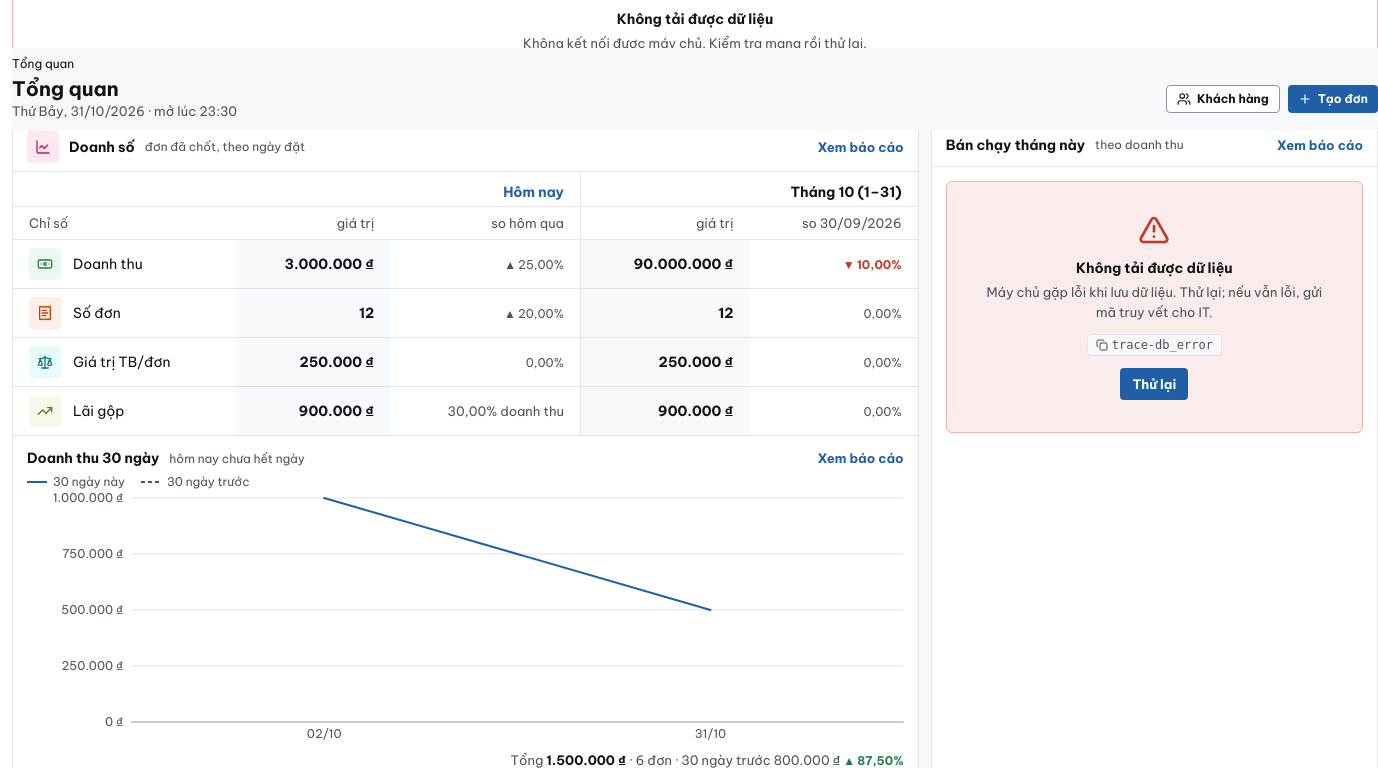
Test: DashboardScreen — số thật theo quyền (RPT-08) › error: ô lỗi hiện traceId + thử lại gọi lại API, các ô khác vẫn chạy
(page scrolled)
expect the button "trace-db_error" is shown: met, box [1087,334,1222,356]
expect the text "3.000.000 ₫" is shown: met, box [284,255,374,273]
Click the button "Thử lại" at (1154, 384), box [1120,368,1188,400]
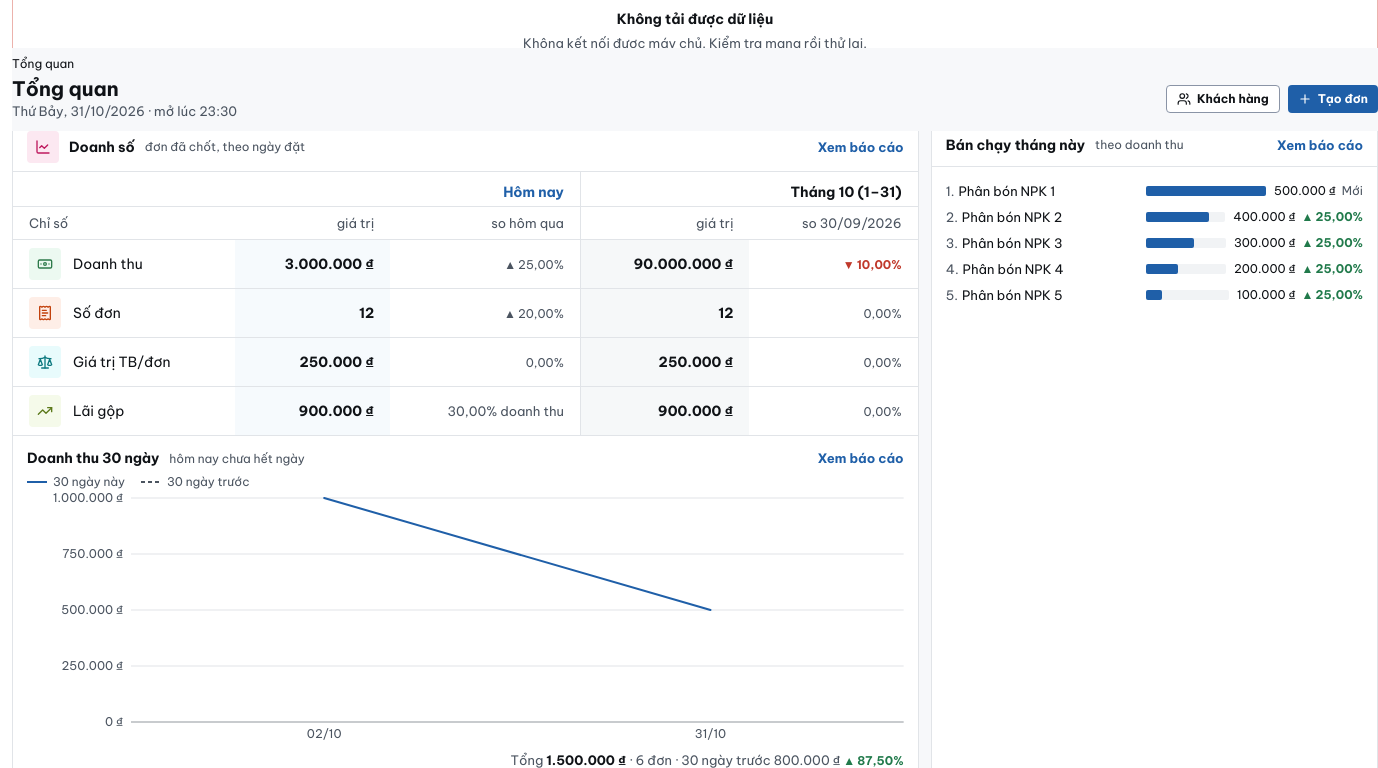
expect the text "Phân bón NPK 1" is shown: met, box [958,183,1055,199]
